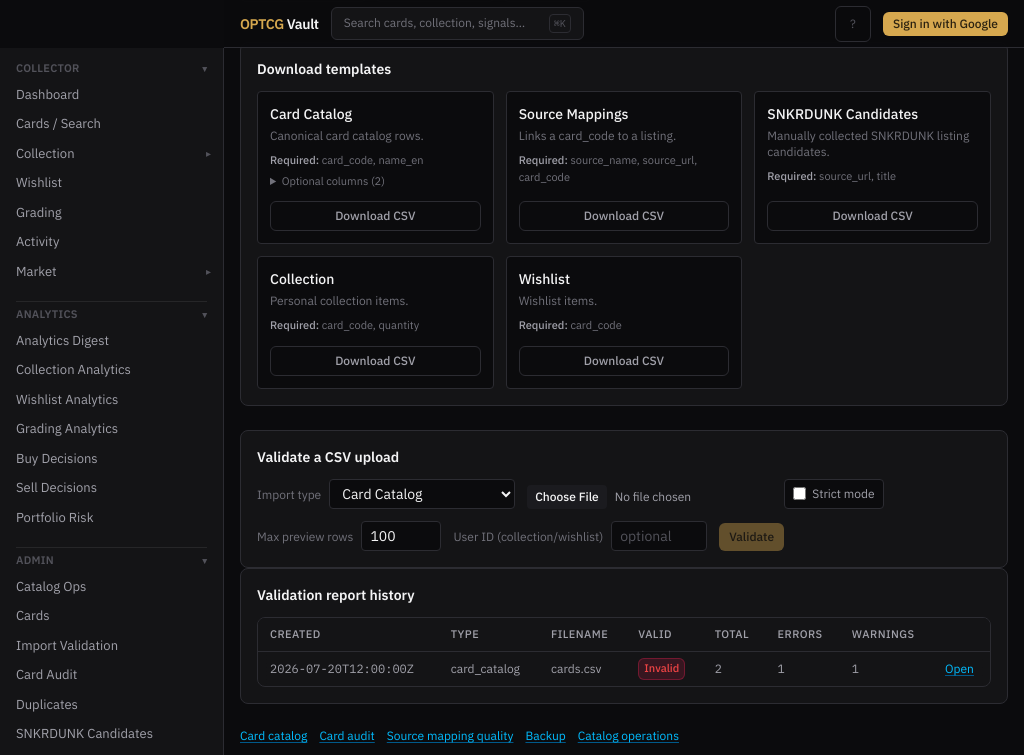
Test: AdminImportValidationPage › renders report history rows and expands a report detail
The width and height of the screenshot is (1024, 755).
(page scrolled)
Expected: the text "cards.csv" is shown, [539,652,626,686]
What coordinates should you click on to do the following:
click the button "Open"
I would click on:
 (960, 669)
Its box is [945,661,974,677].
(page scrolled)
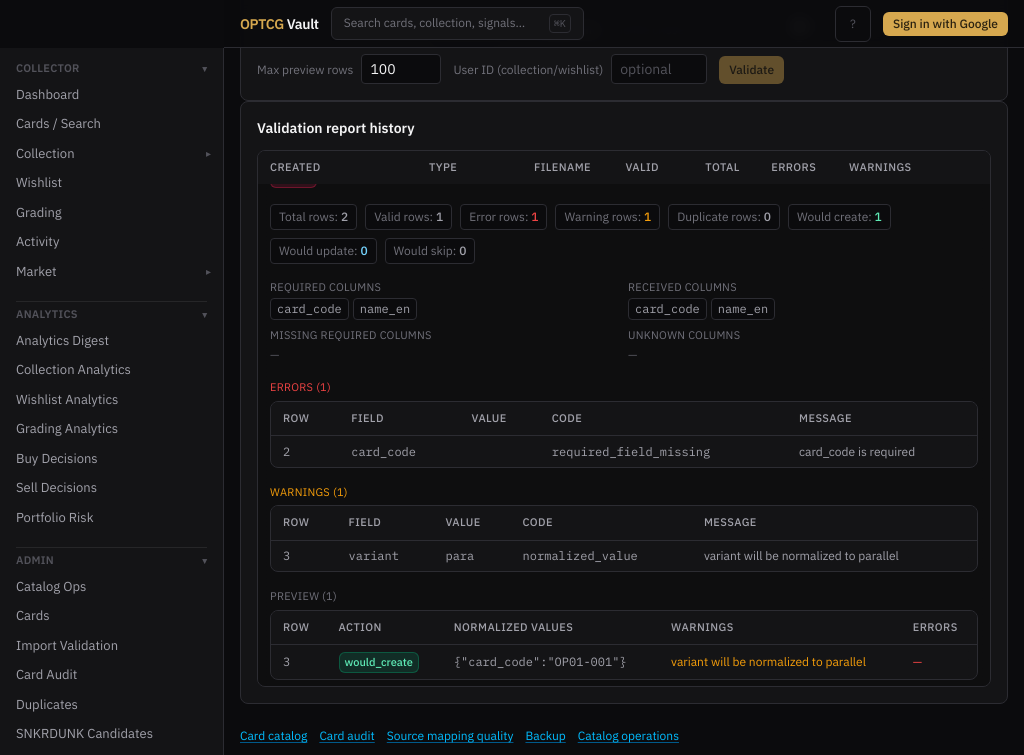
Result: the text "card_code is required" is shown at [787,436,977,467]
